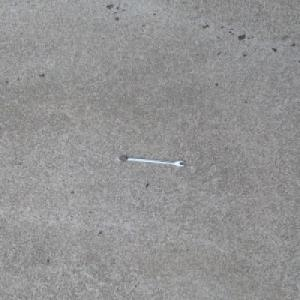Wrench: (115, 155, 185, 167)
